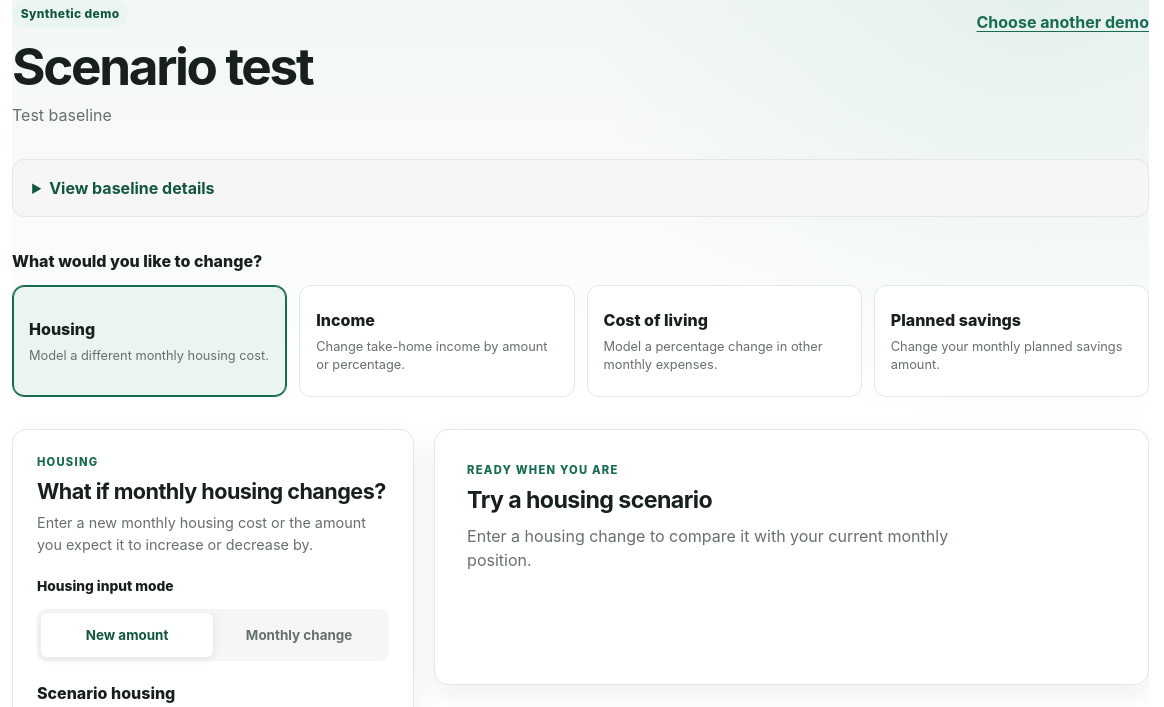
Test case: ScenarioLab › applies cost-of-living changes only to other expenses
This screenshot has width=1164, height=707.
Click the button "Cost of living" at (724, 340), box x1=586 y1=284 x2=862 y2=396
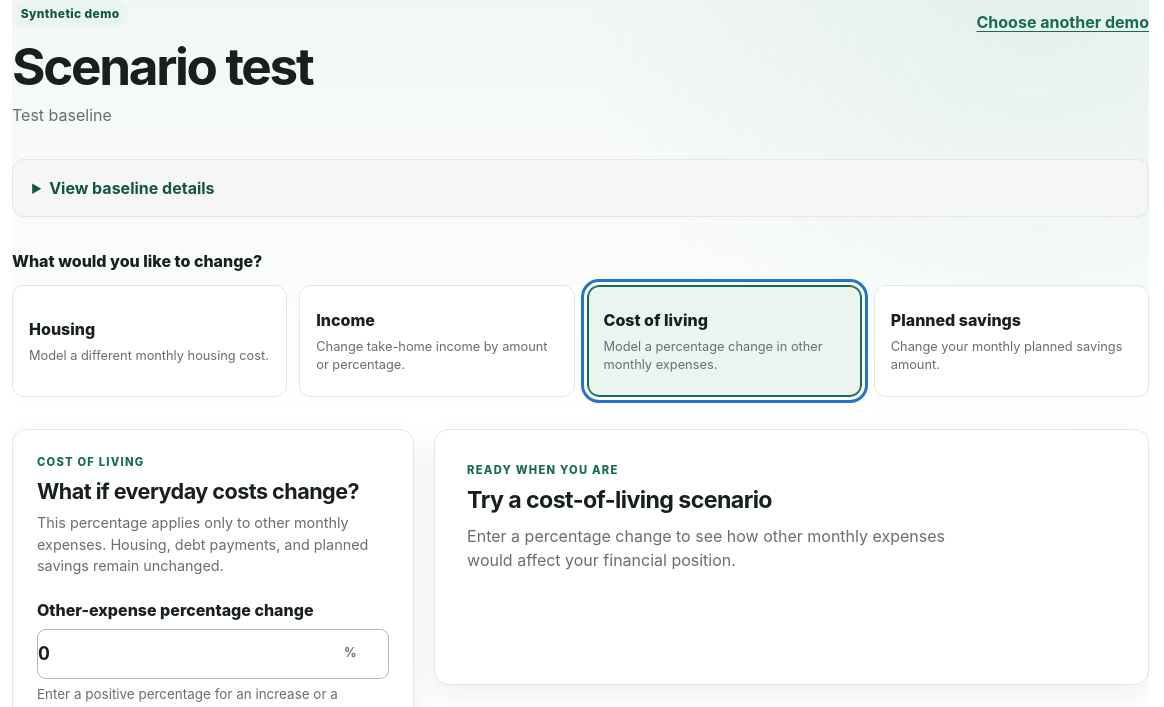
Replace the text in the field labelled "Other-expense percentage change" with "10" at (185, 654), box x1=38 y1=630 x2=332 y2=678
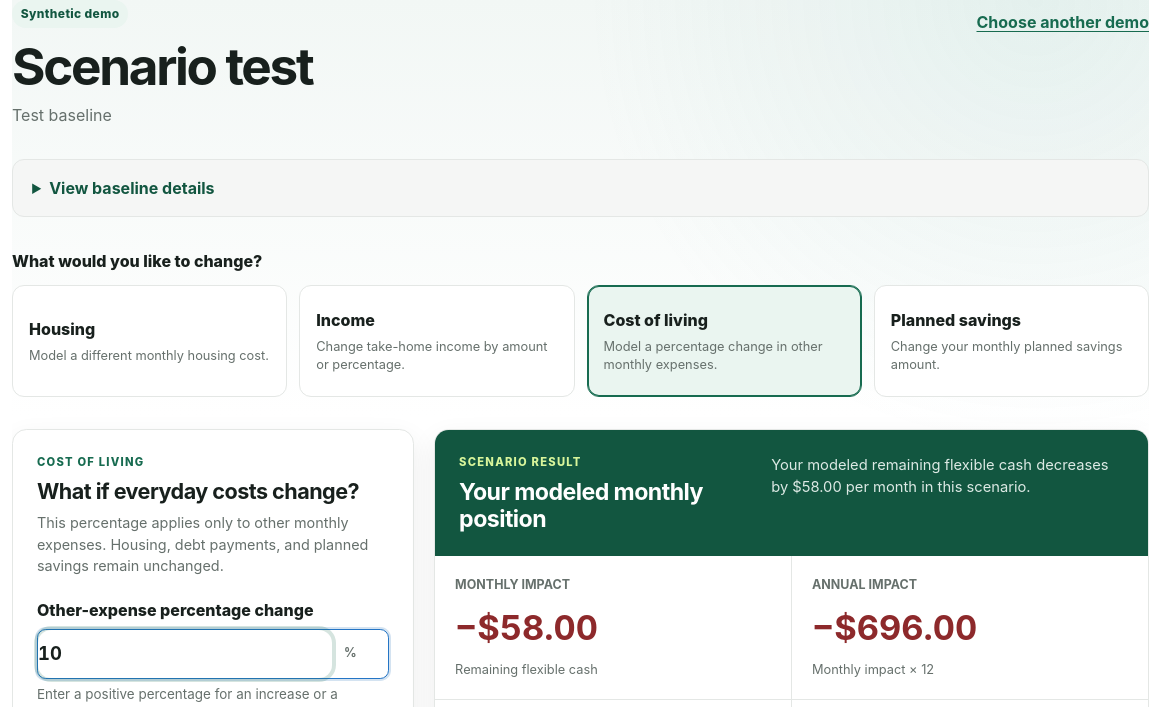
Replace the text in the field labelled "Other-expense percentage change" with "-10" at (185, 654), box x1=38 y1=630 x2=332 y2=678
(page scrolled)
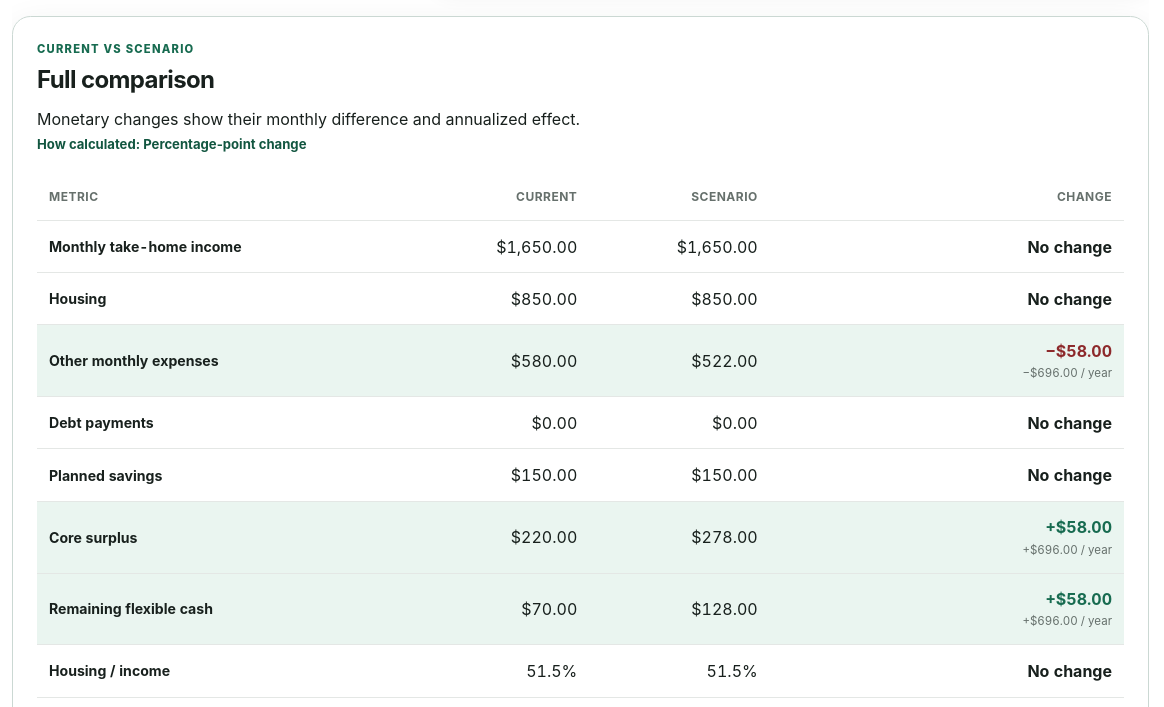
Check: the text "$522.00" is shown, box x1=589 y1=325 x2=770 y2=397
